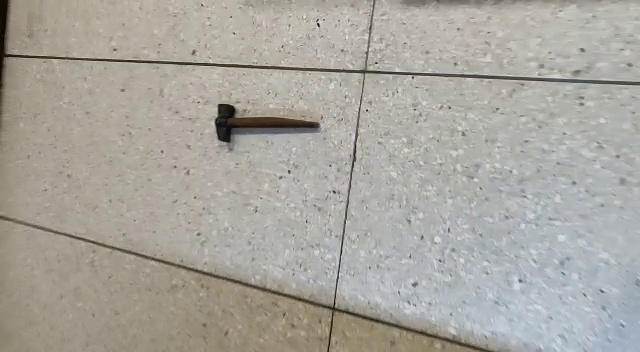hammer: (212, 102, 322, 143)
